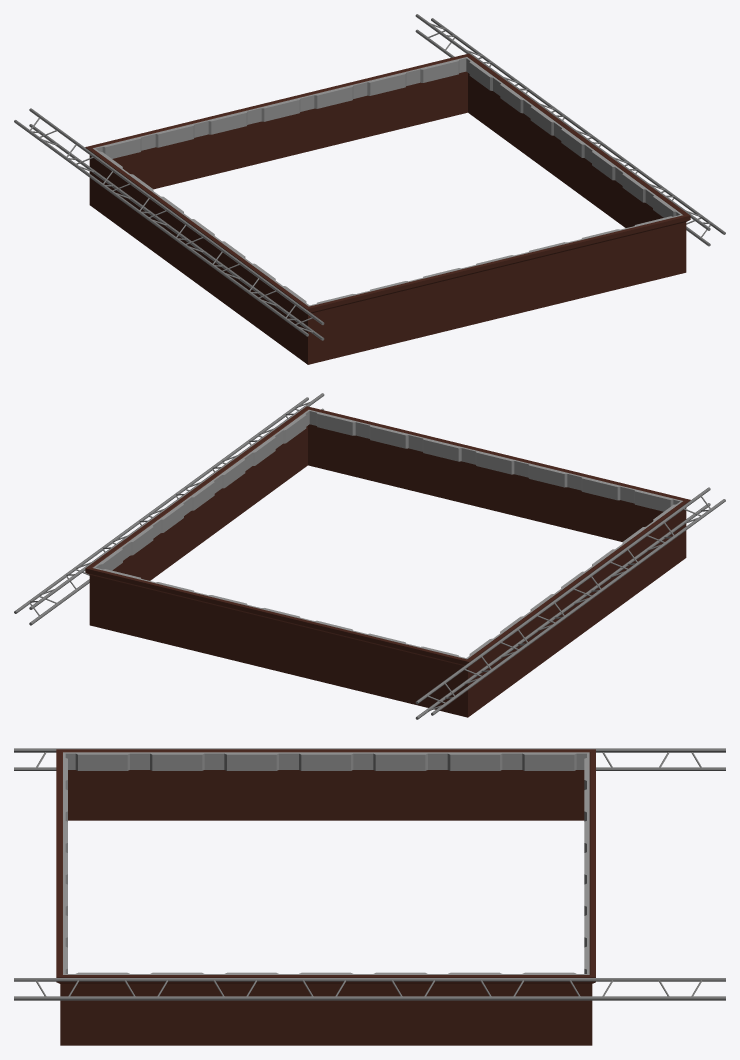
Rendered from Board_frame.fbx.
3 views of the same model, one above another, from view 1: azimuth 30°, elevation 25°; view 2: azimuth 150°, elevation 25°; view 3: azimuth 270°, elevation 25° (orthographic). The views are drawn at different scales.
Parts seen in each view (by area): view 1: Cube.002; view 2: Cube.002; view 3: Cube.002.
Part boxes in pixels (x1,y1,x2,y2): Cube.002: (14,14,725,364); Cube.002: (14,393,725,719); Cube.002: (14,748,725,1045).
Size of the model in its own units: 1585 by 207 by 1913.
